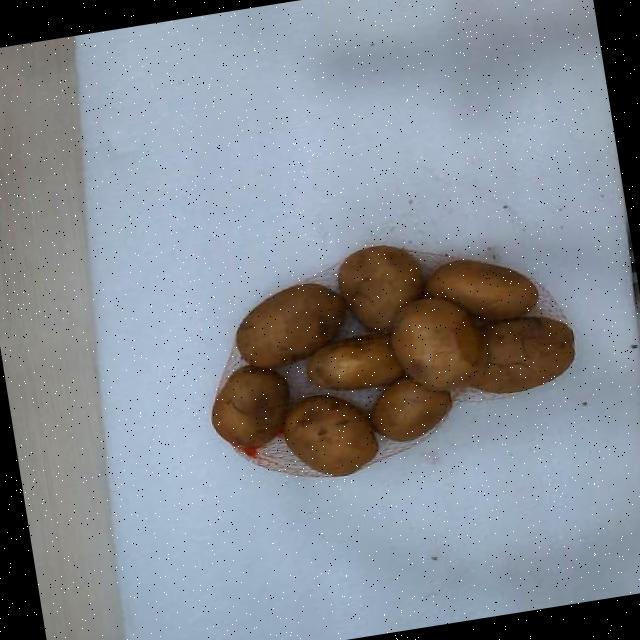potato: (235, 283, 345, 368), (392, 298, 484, 390), (472, 316, 573, 392), (283, 396, 378, 474), (338, 245, 421, 329), (424, 259, 538, 319), (211, 364, 289, 446), (306, 333, 404, 389), (371, 377, 450, 441)
